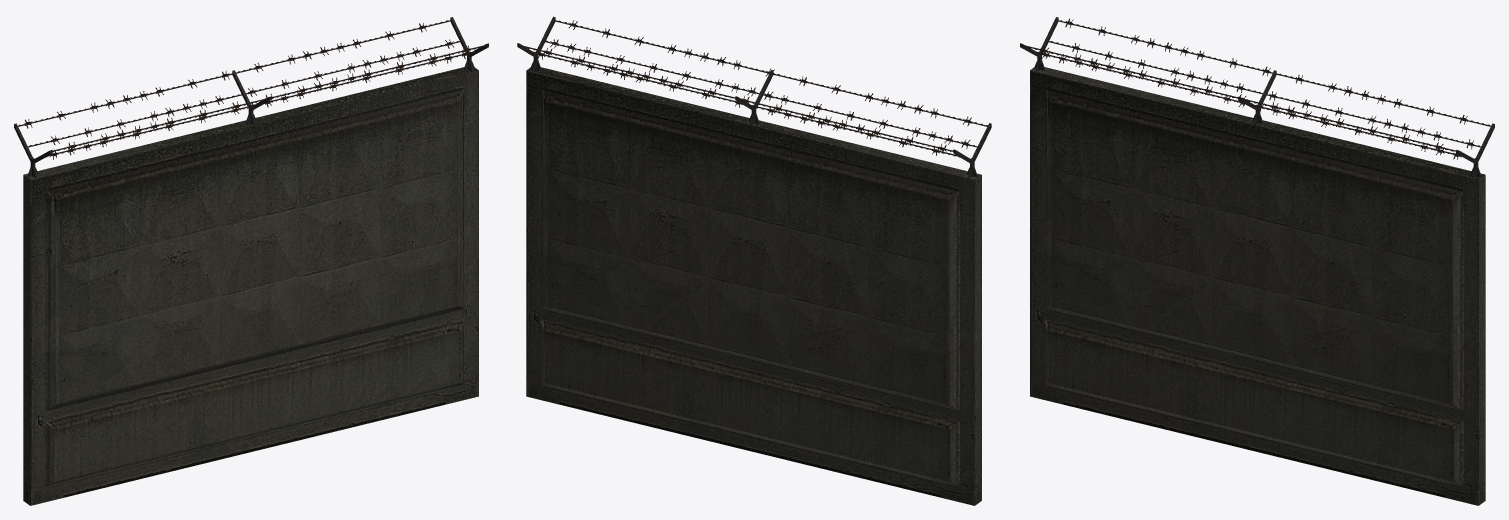
The model's file is concrete_fence_hr_2.obj.
3 views of the same model, side by side, from view 1: azimuth 30°, elevation 25°; view 2: azimuth 150°, elevation 25°; view 3: azimuth 330°, elevation 25° (orthographic).
Visible parts, largest first — view 1: concrete_fence_hr_2; view 2: concrete_fence_hr_2; view 3: concrete_fence_hr_2.
Boxes of the visible parts, x1,y1,x2,y2 form: concrete_fence_hr_2: (14,17,488,505); concrete_fence_hr_2: (517,16,991,505); concrete_fence_hr_2: (1020,17,1494,505).
Bounding box in the file's own units: 3.6 × 2.82 × 0.5551.
